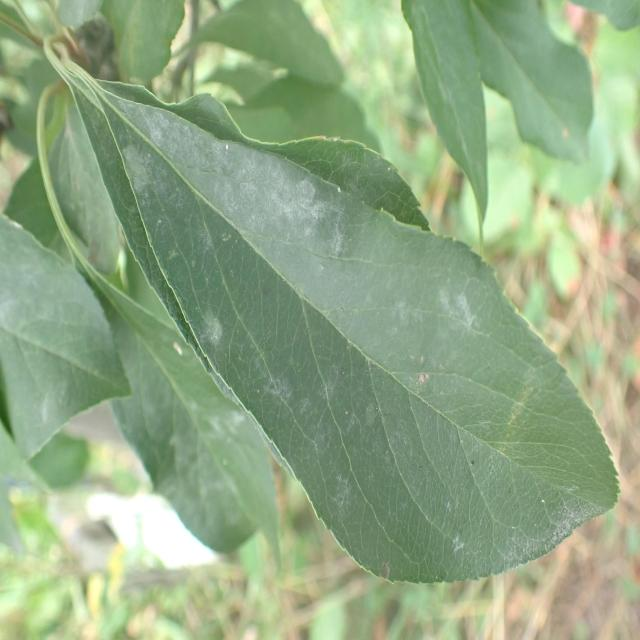Powdery_mildew: (72, 79, 594, 604), (45, 186, 288, 570), (0, 203, 116, 462)
